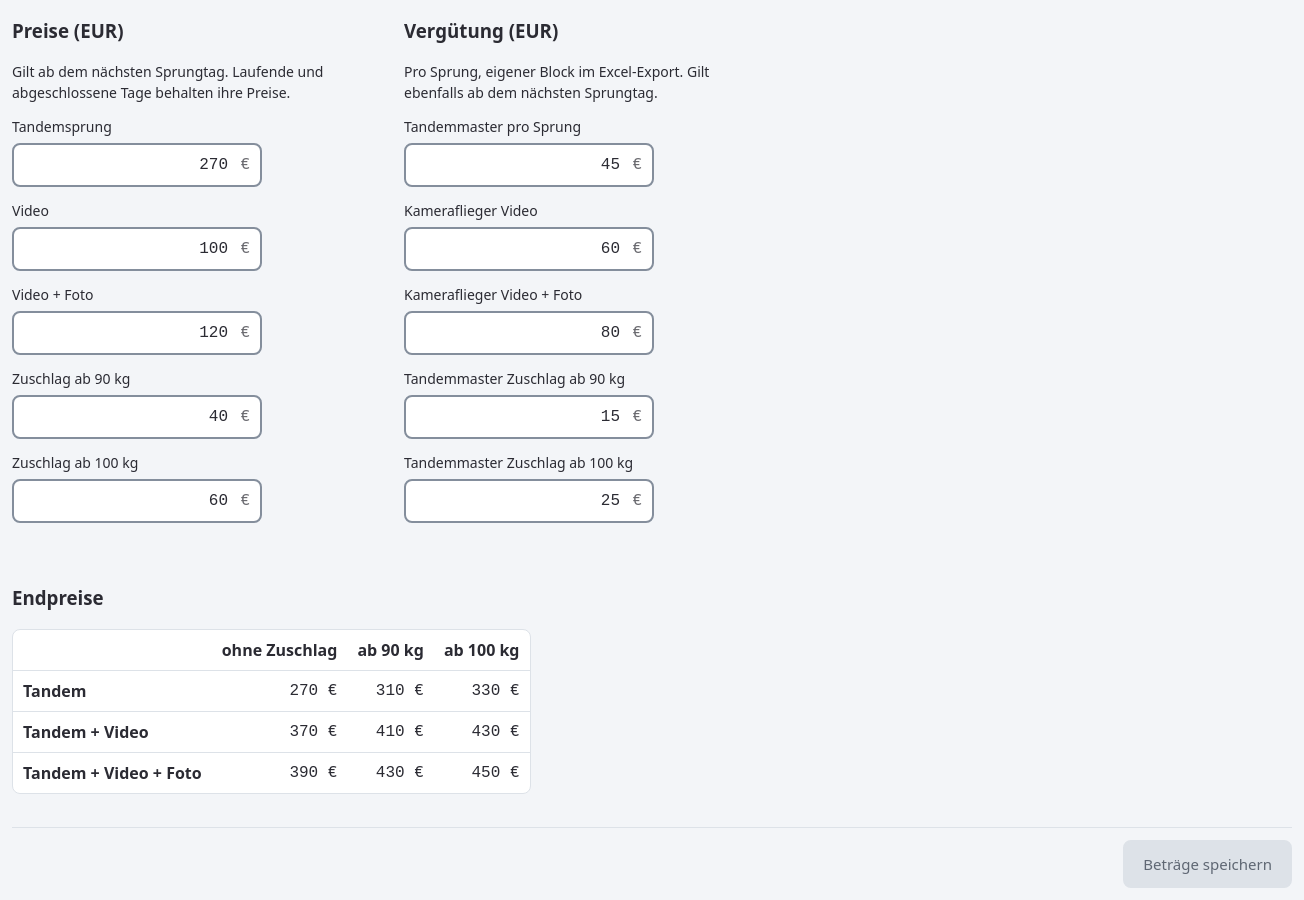
Test: Beträge › takes a comma as the decimal mark and shows cents with two digits
expect the heading "Preise (EUR)" is shown: met, box [12,18,124,43]
Replace the text in the field labelled "Video + Foto" with "120,5" at (137, 333), box [12,311,262,355]
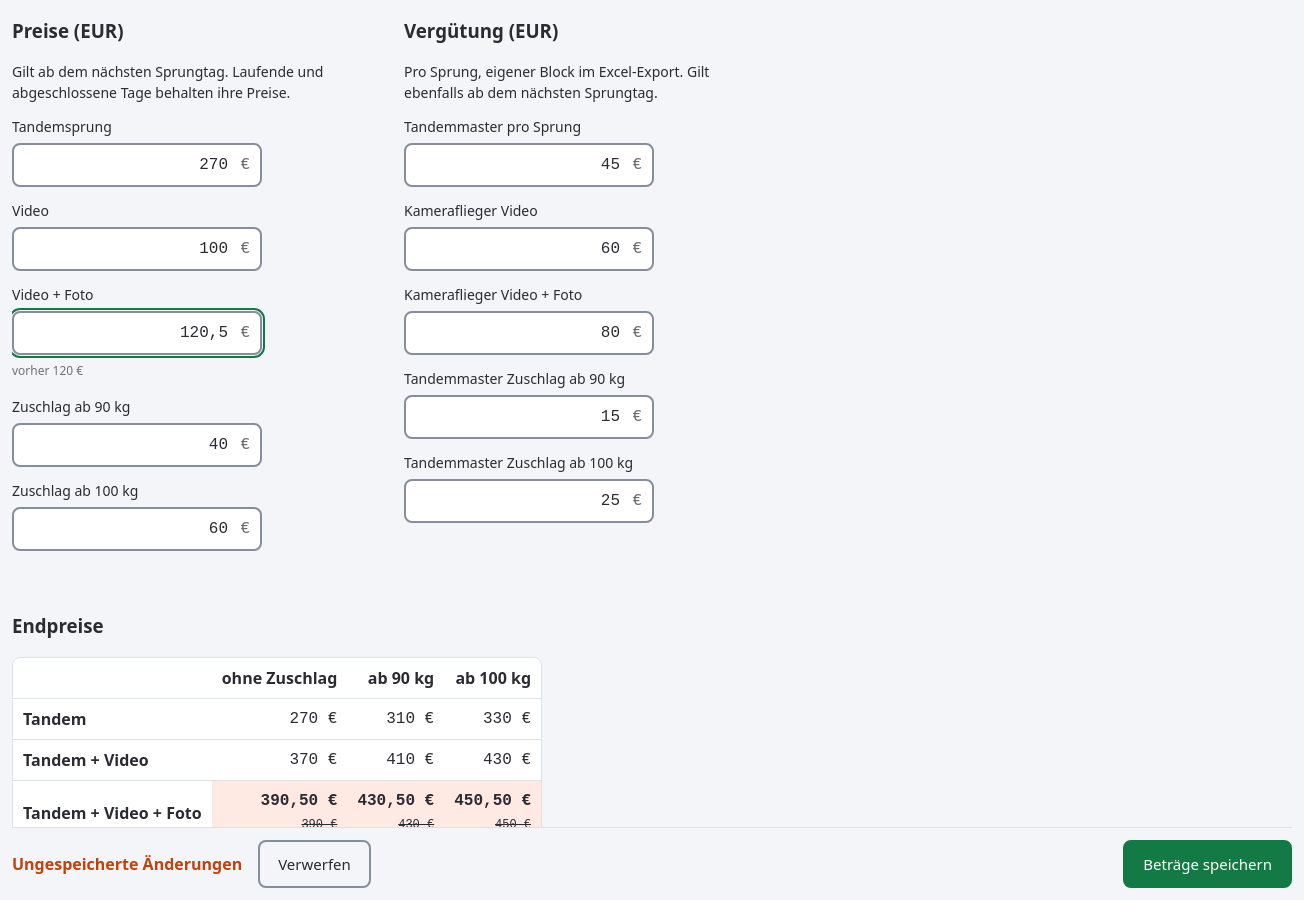
Click the button "Beträge speichern" at (1208, 864), box [1123,840,1292,888]
(page scrolled)
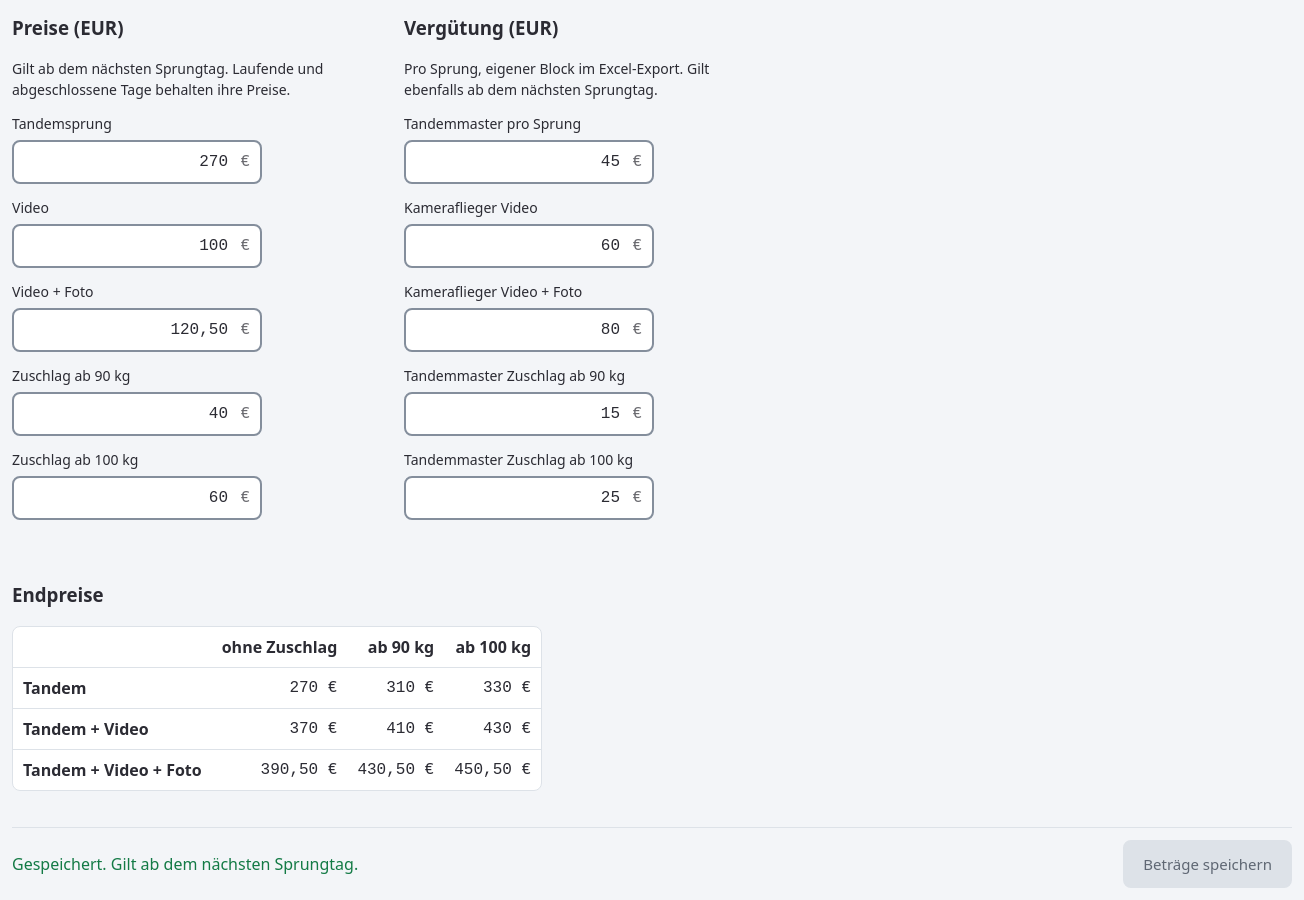
expect the field labelled "Video + Foto" holds "120,50": met, box [12,308,262,352]
